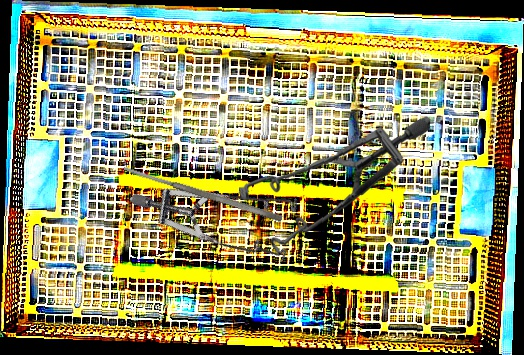Spatula Surgical: (122, 163, 284, 224)
Speculum: (128, 115, 321, 306), (235, 106, 431, 263)
